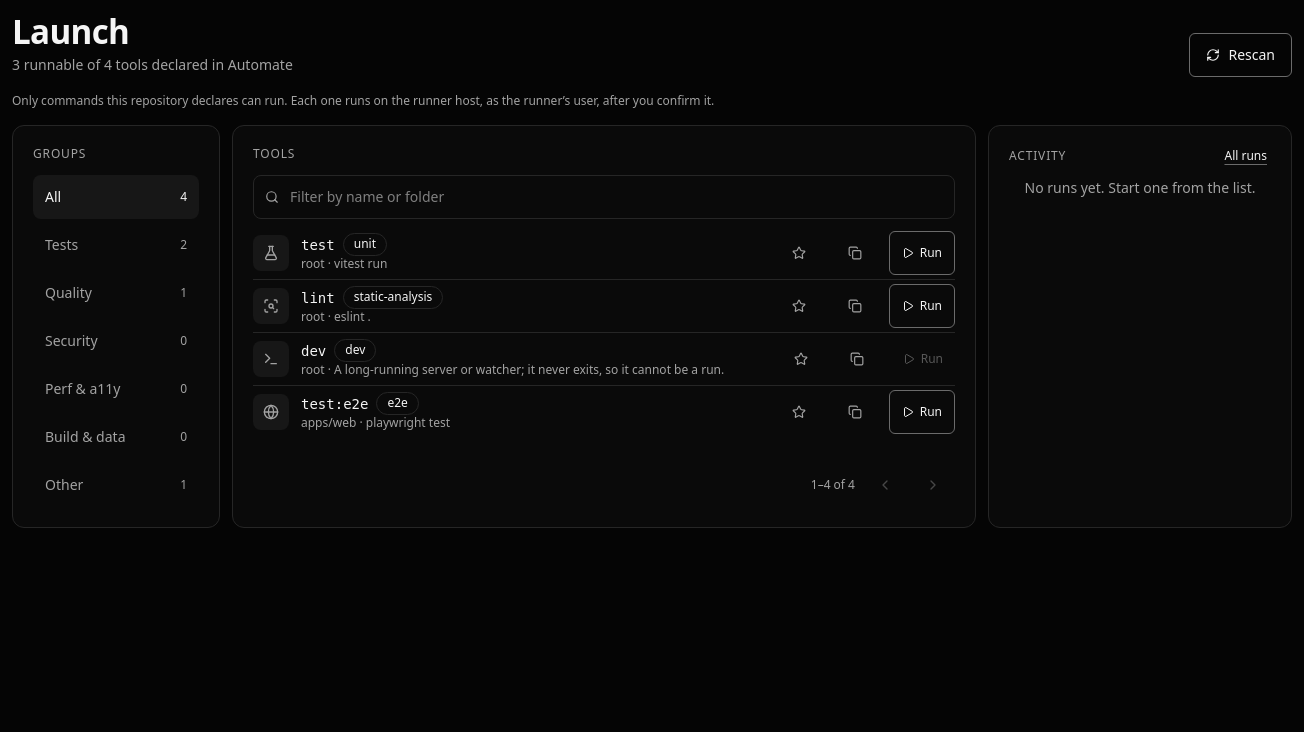
the runner › filters by group and by text, and counts each group
Check: the button with test id "group-tests" reads "Tests 2", box x1=33 y1=223 x2=199 y2=267
Click the button with test id "group-quality".
click(116, 293)  # box x1=33 y1=271 x2=199 y2=315
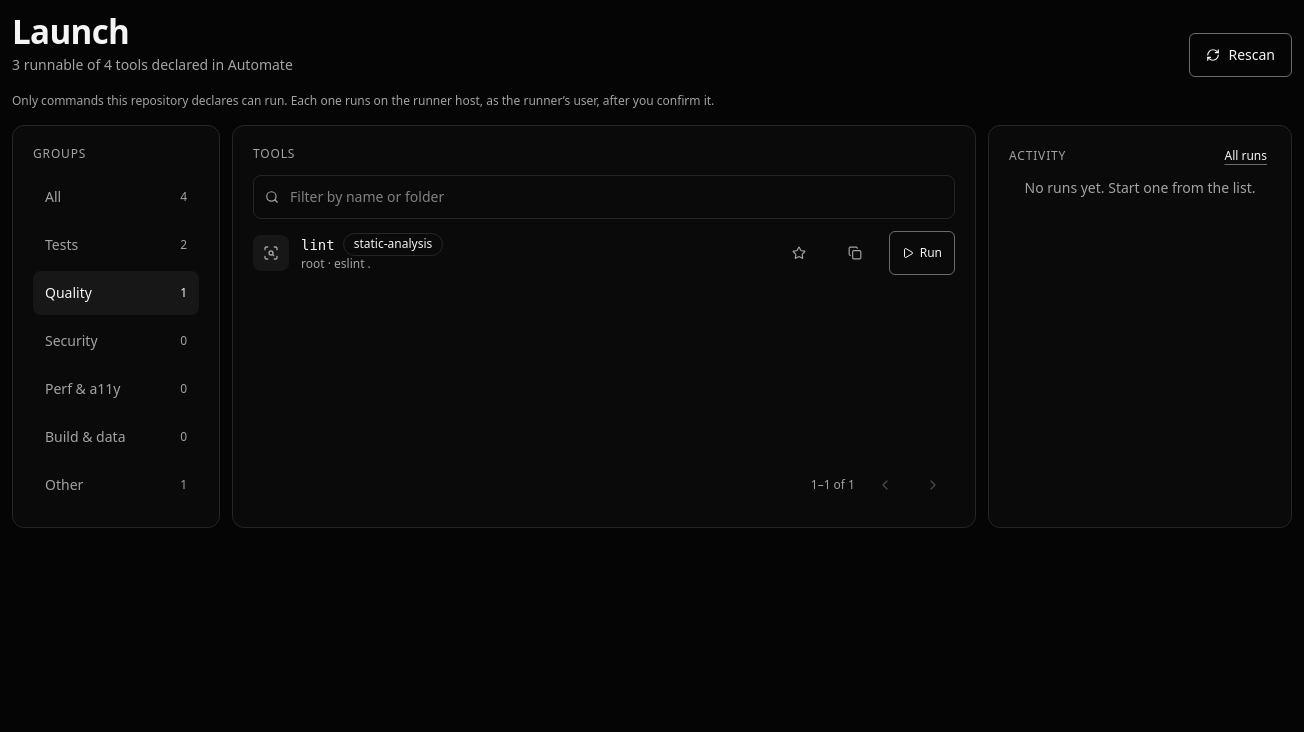
Check: the list item with test id "tool-script:.:lint" is shown, box x1=253 y1=227 x2=955 y2=279
Check: the button with test id "group-quality" is pressed, box x1=33 y1=271 x2=199 y2=315
Click the button with test id "group-all".
click(116, 197)  # box x1=33 y1=175 x2=199 y2=219
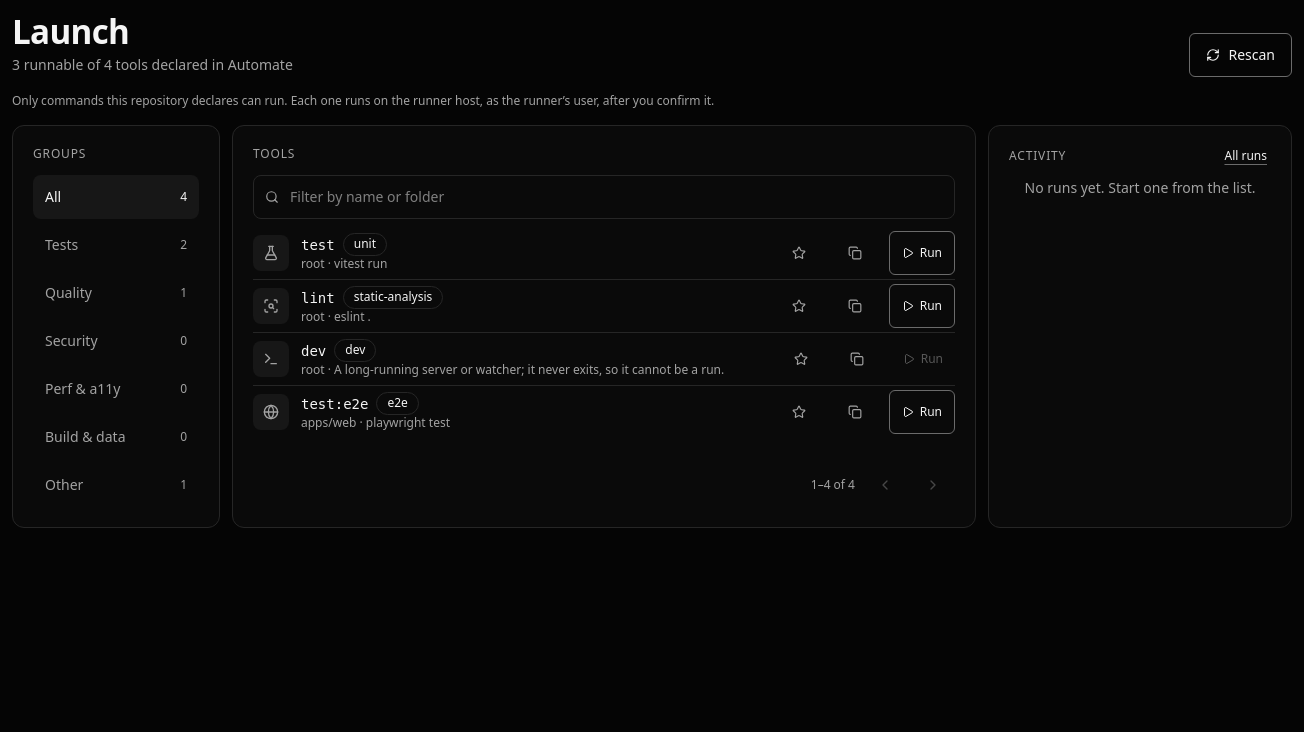
Type "apps/web" into the search field with test id "runner-filter".
click(604, 197); type("apps/web")  # box x1=253 y1=175 x2=955 y2=219
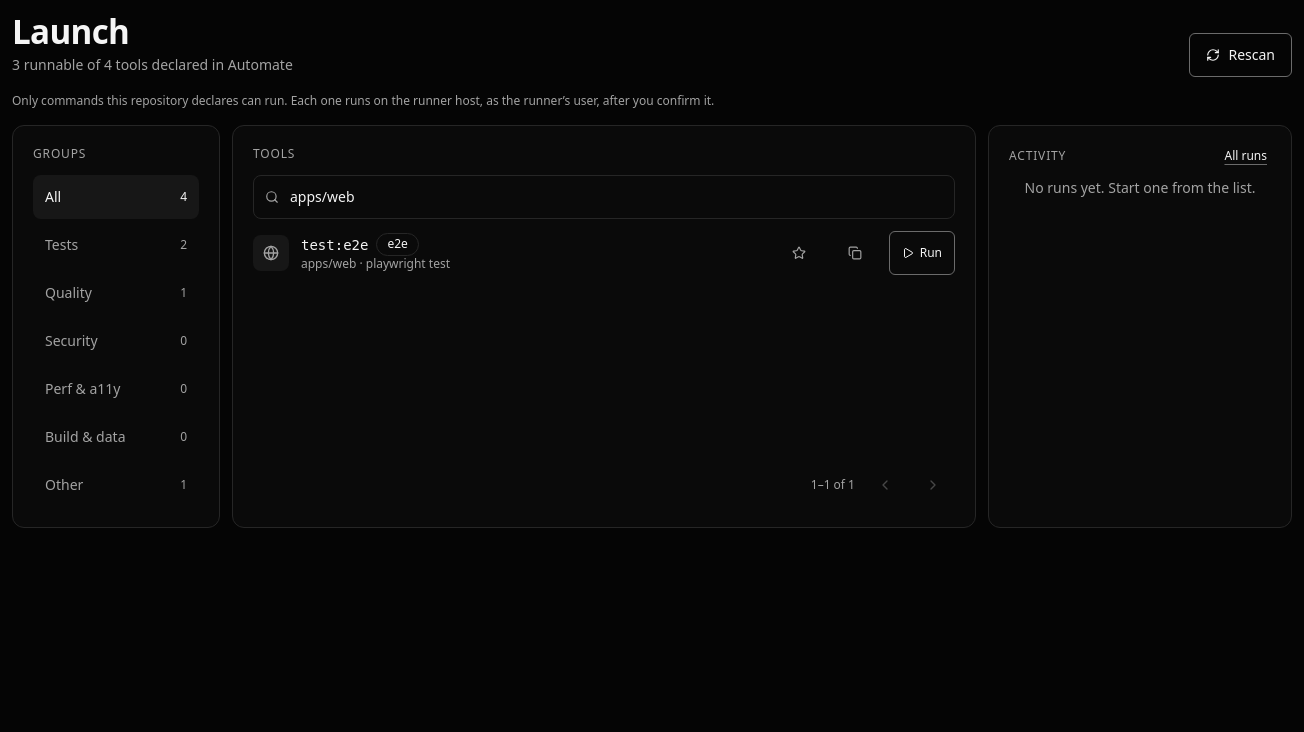
Replace the text in the search field with test id "runner-filter" with "nothing-like-this" at (604, 197), box x1=253 y1=175 x2=955 y2=219
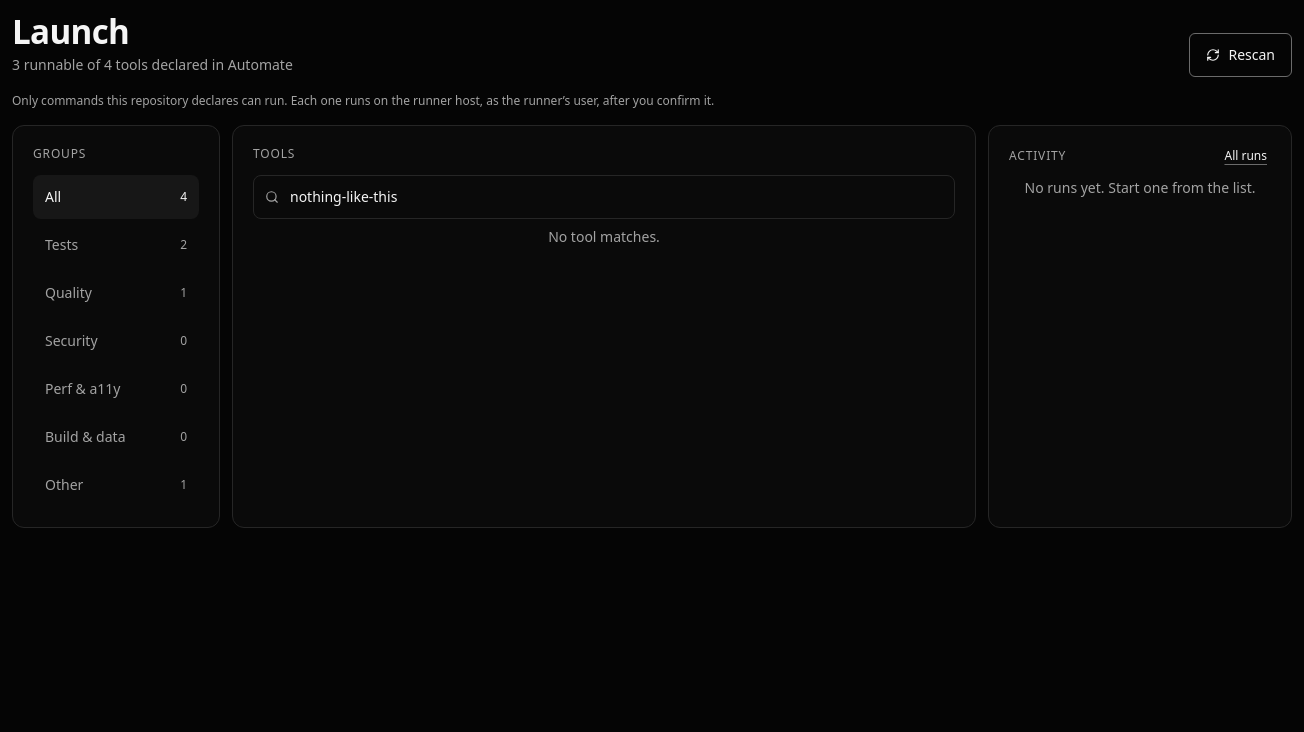
Check: the text "No tool matches." is shown, box x1=548 y1=227 x2=660 y2=246
